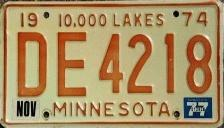1: (162, 31, 181, 96)
2: (127, 32, 156, 95)
4: (96, 32, 127, 95)
8: (183, 33, 215, 95)
D: (16, 30, 49, 98)
E: (53, 29, 94, 99)
